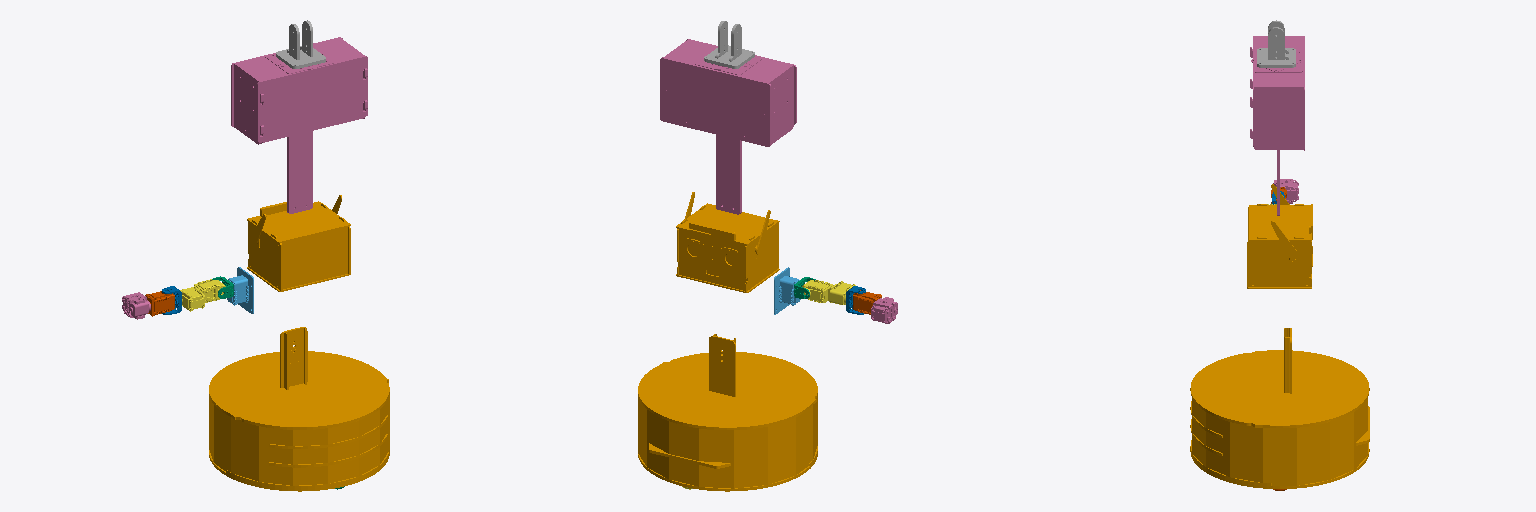
robot.urdf — v2mini:
<?xml version="1.0" ?>
<!-- =================================================================================== -->
<!-- |    This document was autogenerated by xacro from v2mini_robot.gazebo.xacro      | -->
<!-- |    EDITING THIS FILE BY HAND IS NOT RECOMMENDED                                 | -->
<!-- =================================================================================== -->
<robot name="v2mini" xmlns:xacro="http://ros.org/wiki/xacro">
  <!-- Parametring the positions -->
  <!--
  Seems like this weird organization is required for move_base to work properly...
  parent > camera_rgb_frame
  -->
  <!-- join the body with head -->
  <joint name="neckpan" type="revolute">
    <parent link="torso_link"/>
    <child link="neck_link"/>
    <axis xyz="0 0 1"/>
    <origin xyz="0 0 0"/>
    <limit effort="10" lower="-2.9" upper="2.9" velocity="10"/>
  </joint>
  <!-- join the body with arm -->
  <joint name="shoulder" type="fixed">
    <parent link="torso_link"/>
    <child link="arm_link1"/>
    <origin rpy="0 0 0" xyz="0 0 0"/>
  </joint>
  <!-- **** BASE **** -->
  <link name="base_link">
    <!-- fake inertial values -->
    <inertial>
      <mass value="10"/>
      <inertia ixx="100" ixy="0" ixz="0" iyy="100" iyz="0" izz="100"/>
      <origin/>
    </inertial>
    <visual>
      <origin rpy="0 0 0" xyz="0 0 0.0192"/>
      <geometry>
        <mesh filename="model://v2mini_description/meshes/base/base.dae"/>
      </geometry>
    </visual>
    <collision>
      <origin rpy="0 0 0" xyz="0 0 0.066"/>
      <geometry>
        <cylinder length="0.132" radius="0.175"/>
      </geometry>
    </collision>
  </link>
  <link name="base_footprint"/>
  <joint name="base_footprint_joint" type="fixed">
    <origin rpy="0 0 0" xyz="0 0 0"/>
    <parent link="base_footprint"/>
    <child link="base_link"/>
  </joint>
  <link name="front_wheel">
    <visual>
      <origin rpy="0 0 0.0" xyz="0 0 0"/>
      <geometry>
        <mesh filename="model://v2mini_description/meshes/base/base_wheel.dae"/>
      </geometry>
    </visual>
    <inertial>
      <origin rpy="0 0 0" xyz="0 0 0"/>
      <mass value="1"/>
      <inertia ixx="1.0" ixy="0.0" ixz="0.0" iyy="1.0" iyz="0.0" izz="1.0"/>
    </inertial>
  </link>
  <joint name="front_axel" type="continuous">
    <parent link="base_link"/>
    <child link="front_wheel"/>
    <origin xyz="-0.0 -0.1405 0.03"/>
    <axis xyz="0 1 0"/>
  </joint>
  <link name="back_wheel">
    <visual>
      <origin rpy="0 0 3.14159" xyz="0 0 0"/>
      <geometry>
        <mesh filename="model://v2mini_description/meshes/base/base_wheel.dae"/>
      </geometry>
    </visual>
    <inertial>
      <origin rpy="0 0 0" xyz="0 0 0"/>
      <mass value="1"/>
      <inertia ixx="1.0" ixy="0.0" ixz="0.0" iyy="1.0" iyz="0.0" izz="1.0"/>
    </inertial>
  </link>
  <joint name="back_axel" type="continuous">
    <parent link="base_link"/>
    <child link="back_wheel"/>
    <origin xyz="0.0 0.1405 0.03"/>
    <axis xyz="0 1 0"/>
  </joint>
  <link name="right_wheel">
    <visual>
      <origin rpy="0 0 -1.570795" xyz="0 0 0"/>
      <geometry>
        <mesh filename="model://v2mini_description/meshes/base/base_wheel.dae"/>
      </geometry>
    </visual>
    <inertial>
      <origin rpy="0 0 0" xyz="0 0 0"/>
      <mass value="1"/>
      <inertia ixx="1.0" ixy="0.0" ixz="0.0" iyy="1.0" iyz="0.0" izz="1.0"/>
    </inertial>
  </link>
  <joint name="right_axel" type="continuous">
    <parent link="base_link"/>
    <child link="right_wheel"/>
    <origin xyz="-0.1405 -0.0 0.03"/>
    <axis xyz="1 0 0"/>
  </joint>
  <link name="left_wheel">
    <visual>
      <origin rpy="0 0 1.570795" xyz="0 0 0"/>
      <geometry>
        <mesh filename="model://v2mini_description/meshes/base/base_wheel.dae"/>
      </geometry>
    </visual>
    <inertial>
      <origin rpy="0 0 0" xyz="0 0 0"/>
      <mass value="1"/>
      <inertia ixx="1.0" ixy="0.0" ixz="0.0" iyy="1.0" iyz="0.0" izz="1.0"/>
    </inertial>
  </link>
  <joint name="left_axel" type="continuous">
    <parent link="base_link"/>
    <child link="left_wheel"/>
    <origin xyz="0.1405 0.0 0.03"/>
    <axis xyz="1 0 0"/>
  </joint>
  <!-- **** TORSO **** -->
  <link name="torso_link">
    <!-- fake inertial values -->
    <inertial>
      <mass value="5"/>
      <inertia ixx="100" ixy="0" ixz="0" iyy="100" iyz="0" izz="100"/>
      <origin/>
    </inertial>
    <visual>
      <origin rpy="0 0 0" xyz="0 0 0.425"/>
      <geometry>
        <mesh filename="model://v2mini_description/meshes/torso/torso.dae"/>
      </geometry>
    </visual>
  </link>
  <joint name="torso_slide" type="prismatic">
    <parent link="base_link"/>
    <child link="torso_link"/>
    <origin xyz="0 0 0"/>
    <axis xyz="0 0 1"/>
    <limit effort="10" lower="-0.09" upper="0" velocity="0.5"/>
  </joint>
  <link name="neck_link">
    <visual>
      <origin rpy="0 0 0" xyz="0 0 0.42"/>
      <geometry>
        <mesh filename="model://v2mini_description/meshes/head/neck.dae"/>
      </geometry>
    </visual>
    <inertial>
      <origin rpy="0 0 0" xyz="0 0 0"/>
      <mass value="1"/>
      <inertia ixx="1.0" ixy="0.0" ixz="0.0" iyy="1.0" iyz="0.0" izz="1.0"/>
    </inertial>
  </link>
  <link name="head_link">
    <visual>
      <origin rpy="0 0 0" xyz="0 0 0"/>
      <geometry>
        <mesh filename="model://v2mini_description/meshes/head/head.dae"/>
      </geometry>
    </visual>
    <inertial>
      <origin rpy="0 0 0" xyz="0 0 0"/>
      <mass value="1"/>
      <inertia ixx="1.0" ixy="0.0" ixz="0.0" iyy="1.0" iyz="0.0" izz="1.0"/>
    </inertial>
    <collision>
      <origin rpy="0 0 0" xyz="0 0 0"/>
      <geometry>
        <box size="0 0 0"/>
      </geometry>
    </collision>
  </link>
  <joint name="neck_tilt" type="revolute">
    <parent link="neck_link"/>
    <child link="head_link"/>
    <axis xyz="1 0 0"/>
    <origin rpy="0 0 3.14" xyz="0 0 0.427"/>
    <limit effort="1000.0" lower="-0.5" upper="0.3" velocity="0.1"/>
  </joint>
  <!-- Attach R200 -->
  <link name="arm_link1">
    <visual>
      <origin rpy="0 0 0" xyz="0 0 0"/>
      <geometry>
        <mesh filename="model://v2mini_description/meshes/arm/arm_link1.dae"/>
      </geometry>
    </visual>
    <inertial>
      <origin rpy="0 0 0" xyz="0 0 0"/>
      <mass value="0.01"/>
      <inertia ixx="1.0" ixy="0.0" ixz="0.0" iyy="1.0" iyz="0.0" izz="1.0"/>
    </inertial>
    <collision>
      <origin rpy="0 0 0" xyz="0 0 0"/>
      <geometry>
        <box size="0.04 0.06 0.08"/>
      </geometry>
    </collision>
  </link>
  <!-- first additional joint at offset -->
  <link name="arm_link2">
    <visual>
      <origin rpy="0 3.14159 0" xyz="0 0 0"/>
      <geometry>
        <mesh filename="model://v2mini_description/meshes/arm/arm_link2.dae"/>
      </geometry>
    </visual>
    <inertial>
      <origin rpy="0 0 0" xyz="0 0 0"/>
      <mass value="0.01"/>
      <inertia ixx="1.0" ixy="0.0" ixz="0.0" iyy="1.0" iyz="0.0" izz="1.0"/>
    </inertial>
  </link>
  <joint name="arm_joint1" type="continuous">
    <parent link="arm_link1"/>
    <child link="arm_link2"/>
    <origin rpy="3.14159 3.14159 0" xyz="-0.158825 -0.002 0.407507"/>
    <limit effort="1000.0" lower="-0.2" upper="2.85" velocity="0.1"/>
  </joint>
  <link name="arm_link3">
    <visual>
      <origin rpy="0 -1.570795  -1.570795" xyz="0 0 0"/>
      <geometry>
        <mesh filename="model://v2mini_description/meshes/arm/arm_link3.dae"/>
      </geometry>
    </visual>
    <inertial>
      <origin rpy="0 0 0" xyz="0 0 0"/>
      <mass value="0.01"/>
      <inertia ixx="1.0" ixy="0.0" ixz="0.0" iyy="1.0" iyz="0.0" izz="1.0"/>
    </inertial>
  </link>
  <joint name="arm_joint2" type="revolute">
    <parent link="arm_link2"/>
    <child link="arm_link3"/>
    <origin rpy="1.570795 0 4.712385" xyz="0.026 0 0"/>
    <axis xyz="-1 0 0"/>
    <limit effort="1000.0" lower="-0.3" upper="1.6" velocity="0.1"/>
  </joint>
  <link name="arm_link4">
    <visual>
      <origin rpy="1.570795 3.14159  0" xyz="0 0 0"/>
      <geometry>
        <mesh filename="model://v2mini_description/meshes/arm/arm_link4.dae"/>
      </geometry>
    </visual>
    <inertial>
      <origin rpy="0 0 0" xyz="0 0 0"/>
      <mass value="0.01"/>
      <inertia ixx="1.0" ixy="0.0" ixz="0.0" iyy="1.0" iyz="0.0" izz="1.0"/>
    </inertial>
  </link>
  <joint name="arm_joint3" type="revolute">
    <parent link="arm_link3"/>
    <child link="arm_link4"/>
    <origin rpy="0 1.570795 0" xyz=" 0 0 -0.0855"/>
    <axis xyz="1 0 0"/>
    <limit effort="1000.0" lower="-3" upper="3" velocity="0.1"/>
  </joint>
  <link name="arm_link5">
    <visual>
      <origin rpy="-1.570795 0 -1.570795" xyz="0 0 0"/>
      <geometry>
        <mesh filename="model://v2mini_description/meshes/arm/arm_link5.dae"/>
      </geometry>
    </visual>
    <inertial>
      <origin rpy="0 0 0" xyz="0 0 0"/>
      <mass value="0.01"/>
      <inertia ixx="1.0" ixy="0.0" ixz="0.0" iyy="1.0" iyz="0.0" izz="1.0"/>
    </inertial>
  </link>
  <joint name="arm_joint4" type="revolute">
    <parent link="arm_link4"/>
    <child link="arm_link5"/>
    <origin rpy=" -1.570795 0 1.570795" xyz="0.026 0 0"/>
    <axis xyz="-1 0 0"/>
    <limit effort="1000.0" lower="-1.5" upper="1.5" velocity="0.1"/>
  </joint>
  <link name="arm_link6">
    <visual>
      <origin rpy="1.570795 1.570795 0" xyz="0 0 0"/>
      <geometry>
        <mesh filename="model://v2mini_description/meshes/arm/arm_link6.dae"/>
      </geometry>
    </visual>
    <inertial>
      <origin rpy="0 0 0" xyz="0 0 0"/>
      <mass value="0.01"/>
      <inertia ixx="1.0" ixy="0.0" ixz="0.0" iyy="1.0" iyz="0.0" izz="1.0"/>
    </inertial>
  </link>
  <joint name="arm_joint5" type="revolute">
    <parent link="arm_link5"/>
    <child link="arm_link6"/>
    <origin rpy="-1.570795 -1.570795 0" xyz="0  0 -0.0415"/>
    <axis xyz="-1 0 0"/>
    <limit effort="1000.0" lower="-3" upper="3" velocity="0.1"/>
  </joint>
  <joint name="ee_joint" type="fixed">
    <parent link="arm_link6"/>
    <child link="ee_link"/>
    <origin rpy="0 0 0" xyz="0 0 0"/>
  </joint>
  <!-- Add end effector -->
  <link name="ee_link">
    <collision>
      <geometry>
        <box size="0.01 0.01 0.01"/>
      </geometry>
      <origin rpy="0 0 0" xyz="0 0 0"/>
    </collision>
    <inertial>
      <origin rpy="0 0 0" xyz="0 0 0"/>
      <mass value="1"/>
      <inertia ixx="1.0" ixy="0.0" ixz="0.0" iyy="1.0" iyz="0.0" izz="1.0"/>
    </inertial>
  </link>
  <!-- Add the gazebo plugins here -->
  <gazebo>
    <plugin filename="libgazebo_ros_control.so" name="ros_control">
      <robotNamespace>/</robotNamespace>
      <robotSimType>gazebo_ros_control/DefaultRobotHWSim</robotSimType>
    </plugin>
  </gazebo>
  <!-- Planar move base plugin -->
  <gazebo>
    <plugin filename="libgazebo_ros_planar_move.so" name="object_controller">
      <commandTopic>cmd_vel</commandTopic>
      <odometryTopic>odom</odometryTopic>
      <odometryFrame>odom</odometryFrame>
      <odometryRate>20.0</odometryRate>
      <robotBaseFrame>base_footprint</robotBaseFrame>
    </plugin>
  </gazebo>
  <gazebo>
    <plugin filename="libgazebo_ros_imu.so" name="gazebo_imu">
      <alwaysOn>true</alwaysOn>
      <bodyName>base_footprint</bodyName>
      <topicName>imu</topicName>
      <serviceName>imu_service</serviceName>
      <gaussianNoise>0.0</gaussianNoise>
      <updateRate>20.0</updateRate>
    </plugin>
  </gazebo>
  <transmission name="arm_joint1_trans">
    <type>transmission_interface/SimpleTransmission</type>
    <joint name="arm_joint1">
      <hardwareInterface>PositionJointInterface</hardwareInterface>
    </joint>
    <actuator name="arm_joint1_motor">
      <mechanicalReduction>1</mechanicalReduction>
    </actuator>
  </transmission>
  <transmission name="arm_joint2_trans">
    <type>transmission_interface/SimpleTransmission</type>
    <joint name="arm_joint2">
      <hardwareInterface>PositionJointInterface</hardwareInterface>
    </joint>
    <actuator name="arm_joint2_motor">
      <mechanicalReduction>1</mechanicalReduction>
    </actuator>
  </transmission>
  <transmission name="arm_joint3_trans">
    <type>transmission_interface/SimpleTransmission</type>
    <joint name="arm_joint3">
      <hardwareInterface>PositionJointInterface</hardwareInterface>
    </joint>
    <actuator name="arm_joint3_motor">
      <mechanicalReduction>1</mechanicalReduction>
    </actuator>
  </transmission>
  <transmission name="arm_joint4_trans">
    <type>transmission_interface/SimpleTransmission</type>
    <joint name="arm_joint4">
      <hardwareInterface>PositionJointInterface</hardwareInterface>
    </joint>
    <actuator name="arm_joint4_motor">
      <mechanicalReduction>1</mechanicalReduction>
    </actuator>
  </transmission>
  <transmission name="arm_joint5_trans">
    <type>transmission_interface/SimpleTransmission</type>
    <joint name="arm_joint5">
      <hardwareInterface>PositionJointInterface</hardwareInterface>
    </joint>
    <actuator name="arm_joint5_motor">
      <mechanicalReduction>1</mechanicalReduction>
    </actuator>
  </transmission>
  <transmission name="torso_slide_trans">
    <type>transmission_interface/SimpleTransmission</type>
    <joint name="torso_slide">
      <hardwareInterface>PositionJointInterface</hardwareInterface>
    </joint>
    <actuator name="torso_slide_motor">
      <mechanicalReduction>1</mechanicalReduction>
    </actuator>
  </transmission>
  <transmission name="neck_tilt">
    <type>transmission_interface/SimpleTransmission</type>
    <joint name="neck_tilt">
      <hardwareInterface>PositionJointInterface</hardwareInterface>
    </joint>
    <actuator name="neck_tilt_motor">
      <mechanicalReduction>1</mechanicalReduction>
    </actuator>
  </transmission>
  <transmission name="neckpan_trans">
    <type>transmission_interface/SimpleTransmission</type>
    <joint name="neckpan">
      <hardwareInterface>PositionJointInterface</hardwareInterface>
    </joint>
    <actuator name="neckpan_motor">
      <mechanicalReduction>1</mechanicalReduction>
    </actuator>
  </transmission>
</robot>

--- What the picture shows (computed from the rendered views, not written in the file) ---
Views: 3 orthographic renders of the robot side by side, from view 1: azimuth 30°, elevation 25°; view 2: azimuth 150°, elevation 25°; view 3: azimuth 270°, elevation 25°.
Robot: v2mini — 16 links, 15 joints (6 revolute, 5 continuous, 1 prismatic, 3 fixed); root link base_footprint; default pose: all joints at 0.
Links seen in each view (by area): view 1: base_link, torso_link, head_link, neck_link, arm_link3, arm_link1, arm_link6; view 2: base_link, torso_link, head_link, neck_link, arm_link3, arm_link1, arm_link6; view 3: base_link, head_link, torso_link, neck_link.
Boxes of the visible links, x1,y1,x2,y2 form: base_link: (209, 327, 389, 491); torso_link: (231, 37, 367, 213); head_link: (247, 195, 350, 291); neck_link: (276, 20, 325, 68); arm_link3: (180, 279, 225, 311); arm_link1: (227, 267, 253, 313); arm_link6: (122, 292, 150, 319); base_link: (638, 334, 817, 491); torso_link: (660, 39, 796, 214); head_link: (676, 192, 779, 292); neck_link: (704, 21, 754, 68); arm_link3: (802, 280, 855, 304); arm_link1: (774, 267, 800, 314); arm_link6: (871, 297, 897, 323); base_link: (1190, 328, 1369, 488); head_link: (1247, 184, 1312, 288); torso_link: (1250, 36, 1304, 215); neck_link: (1257, 20, 1295, 67).
Bounding box of the posed robot: 0.5528 × 0.35 × 0.9343 m (x, y, z).
14 mesh visuals loaded from 11 distinct referenced files (11 Collada DAE).